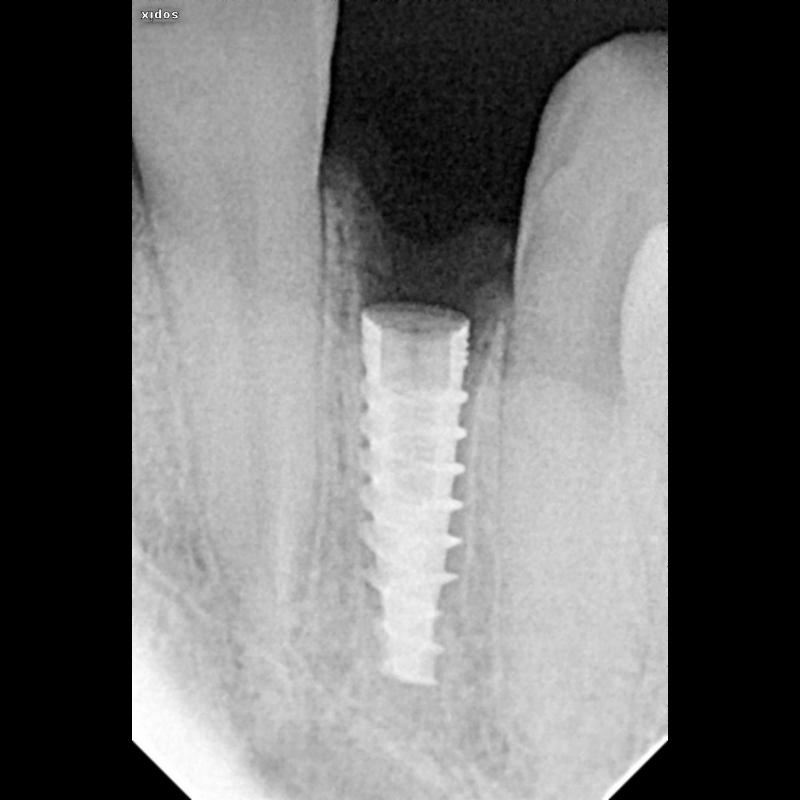NORIS: (352, 299, 478, 692)
